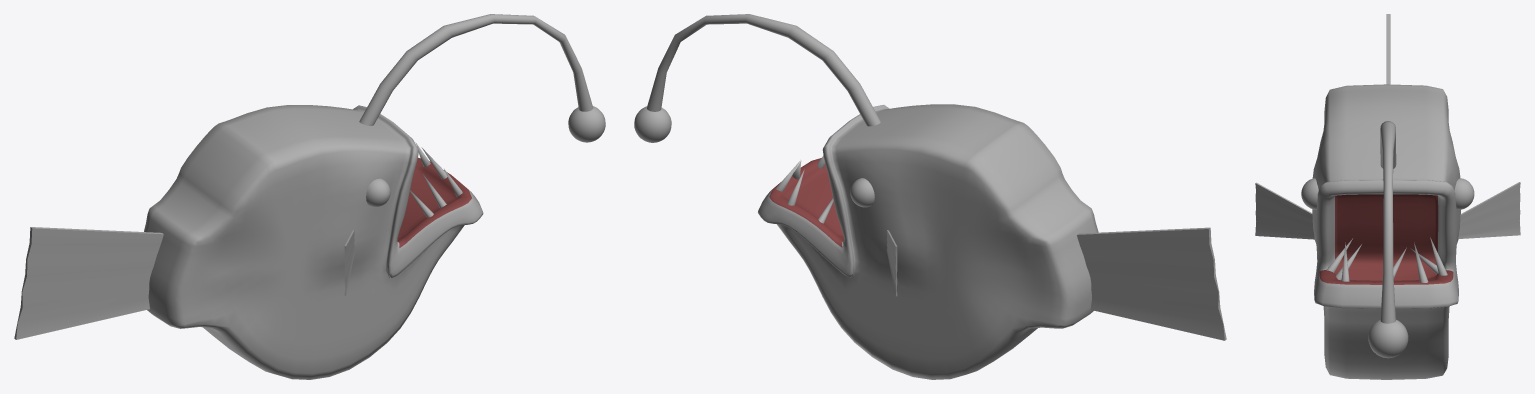
The model's file is Anglerfish.fbx.
The picture shows the model from 3 angles, left to right: view 1: azimuth 30°, elevation 25°; view 2: azimuth 150°, elevation 25°; view 3: azimuth 270°, elevation 25°; orthographic projection. The views are drawn at different scales.
Visible parts, largest first — view 1: Body, Fins, polySurface2, polySurface1, Teeth, Eyes; view 2: Body, Fins, polySurface2, polySurface1, Teeth, Eyes; view 3: Body, Fins, polySurface2, polySurface1, Teeth, Eyes.
Part boxes in pixels (bbox=[...]): Body: bbox=[144, 105, 483, 379]; Fins: bbox=[14, 227, 354, 339]; polySurface2: bbox=[359, 14, 593, 125]; polySurface1: bbox=[568, 106, 605, 142]; Teeth: bbox=[410, 142, 462, 217]; Eyes: bbox=[366, 178, 390, 207]; Body: bbox=[758, 104, 1098, 379]; Fins: bbox=[886, 227, 1226, 340]; polySurface2: bbox=[647, 14, 880, 126]; polySurface1: bbox=[634, 106, 671, 142]; Teeth: bbox=[776, 156, 833, 223]; Eyes: bbox=[850, 178, 874, 207]; Body: bbox=[1312, 84, 1460, 379]; Fins: bbox=[1255, 14, 1520, 239]; polySurface2: bbox=[1380, 121, 1396, 323]; polySurface1: bbox=[1368, 319, 1408, 358]; Teeth: bbox=[1326, 237, 1447, 282]; Eyes: bbox=[1301, 178, 1474, 209].
Size of the model in its own units: 27.91 by 13.63 by 10.19.
